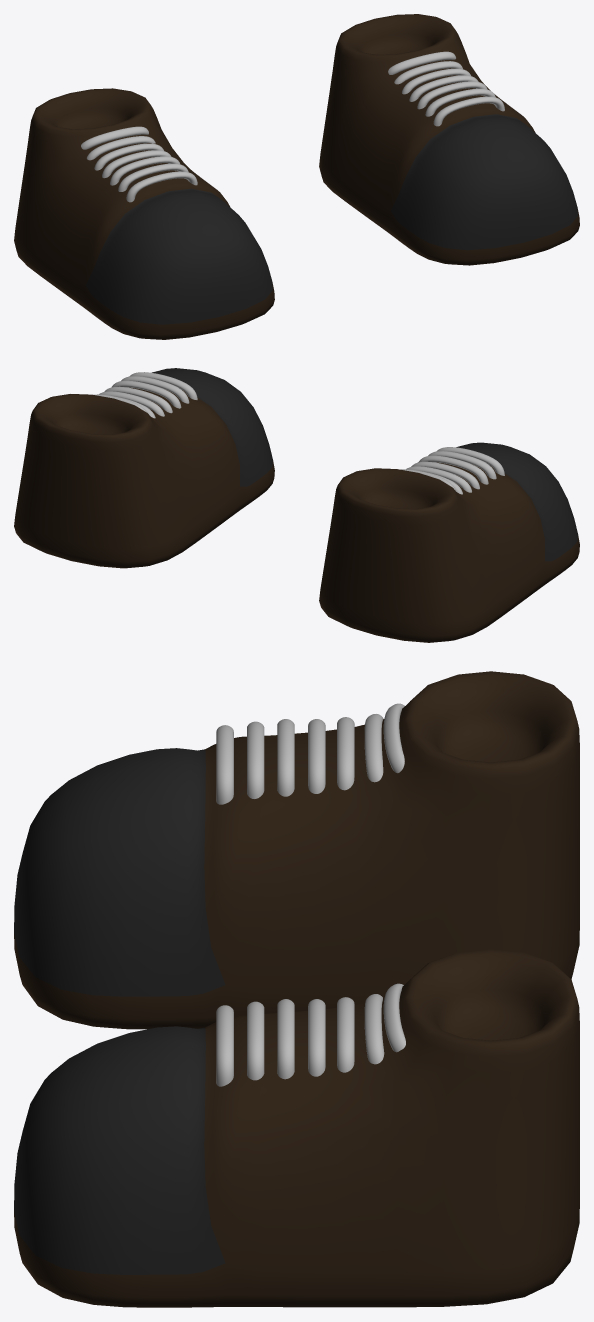
The picture shows the model from 3 angles, top to bottom: view 1: azimuth 30°, elevation 25°; view 2: azimuth 150°, elevation 25°; view 3: azimuth 270°, elevation 25°; orthographic projection. The views are drawn at different scales.
Visible parts, largest first — view 1: boots; view 2: boots; view 3: boots.
Boxes of the visible parts, left/top/right/bottom form: boots: left=14, top=14, right=579, bottom=339; boots: left=14, top=368, right=579, bottom=642; boots: left=14, top=671, right=579, bottom=1307.
Size of the model in its own units: 0.744 by 0.2041 by 0.42.
